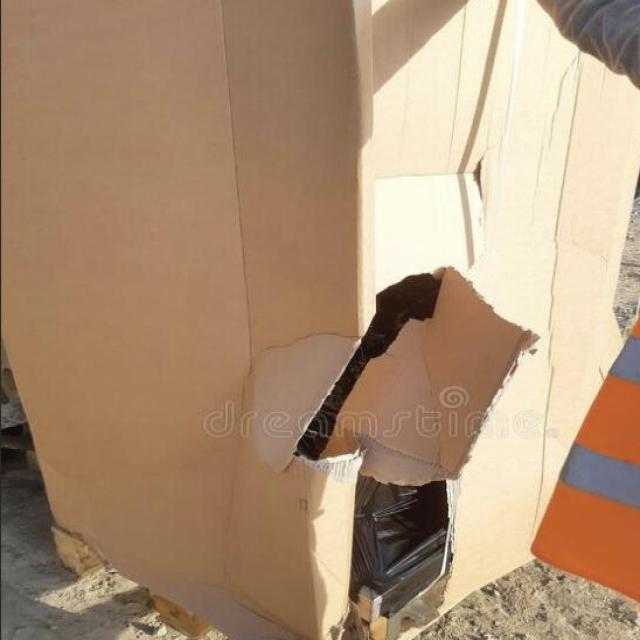damaged: (339, 265, 456, 640)
